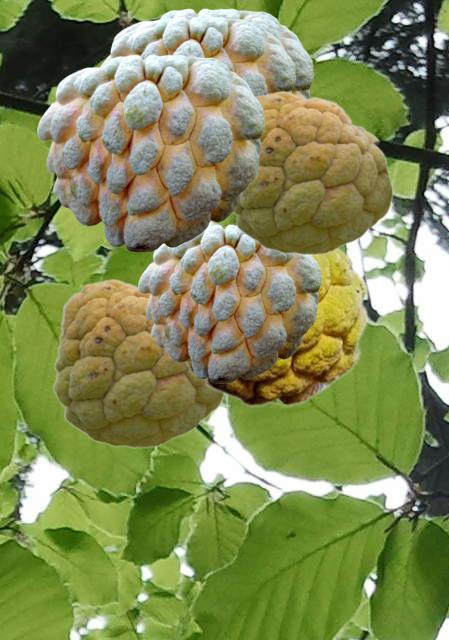atis: (37, 54, 263, 251), (184, 248, 368, 406), (52, 278, 224, 447), (138, 224, 320, 382), (233, 90, 392, 254), (100, 8, 312, 97), (103, 16, 294, 94)
